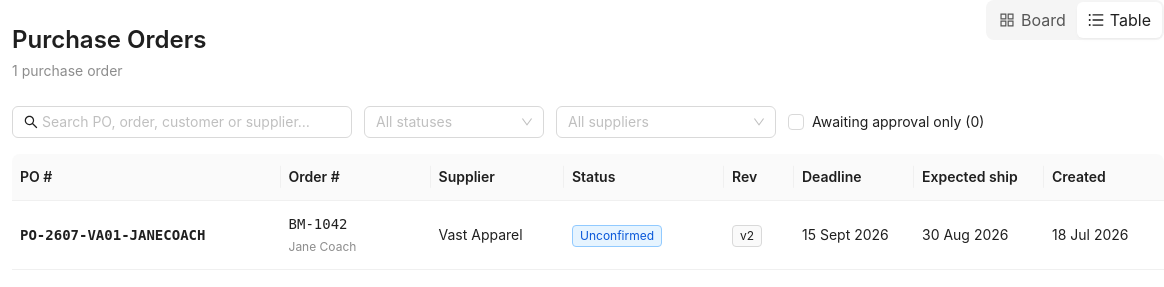
it: PurchaseOrdersView — awaiting approval › offers the filter even when nothing is waiting, and says so when empty
The width and height of the screenshot is (1164, 287).
Expected: the text "PO-2607-VA01-JANECOACH" is shown, [20,227,205,243]
Click the checkbox labelled "Awaiting approval only (0)" at x=890, y=122, box [788,111,992,133]
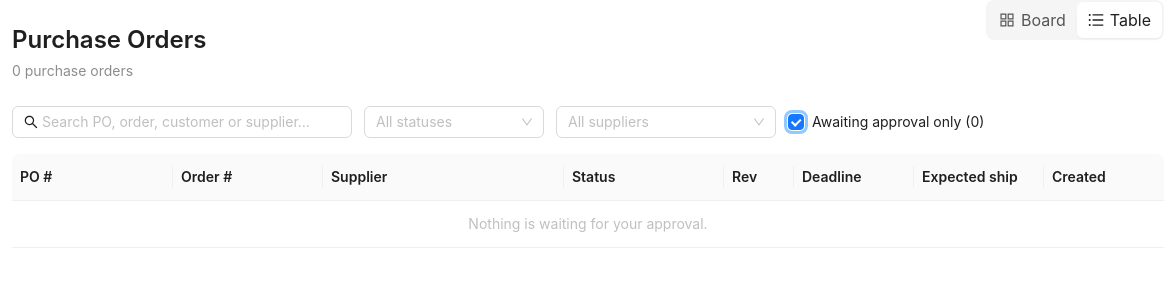
Now the text "Nothing is waiting for your approval." is shown, box [12,201,1163,248]
